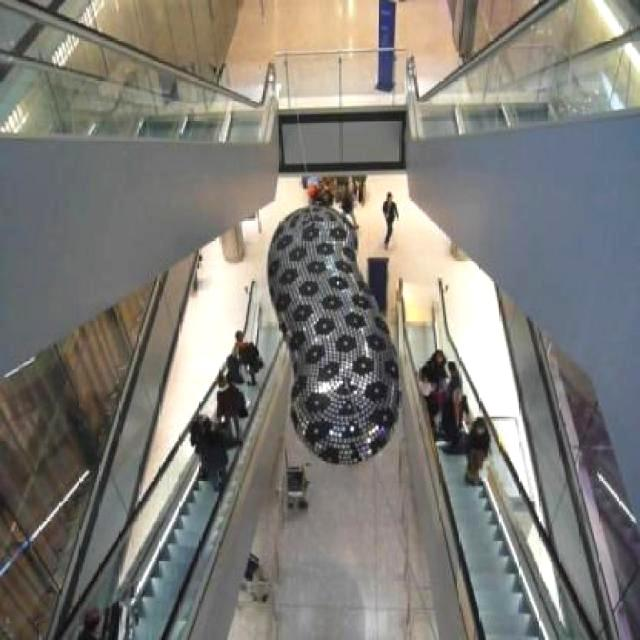stair: (392, 274, 606, 640), (88, 324, 285, 640)
